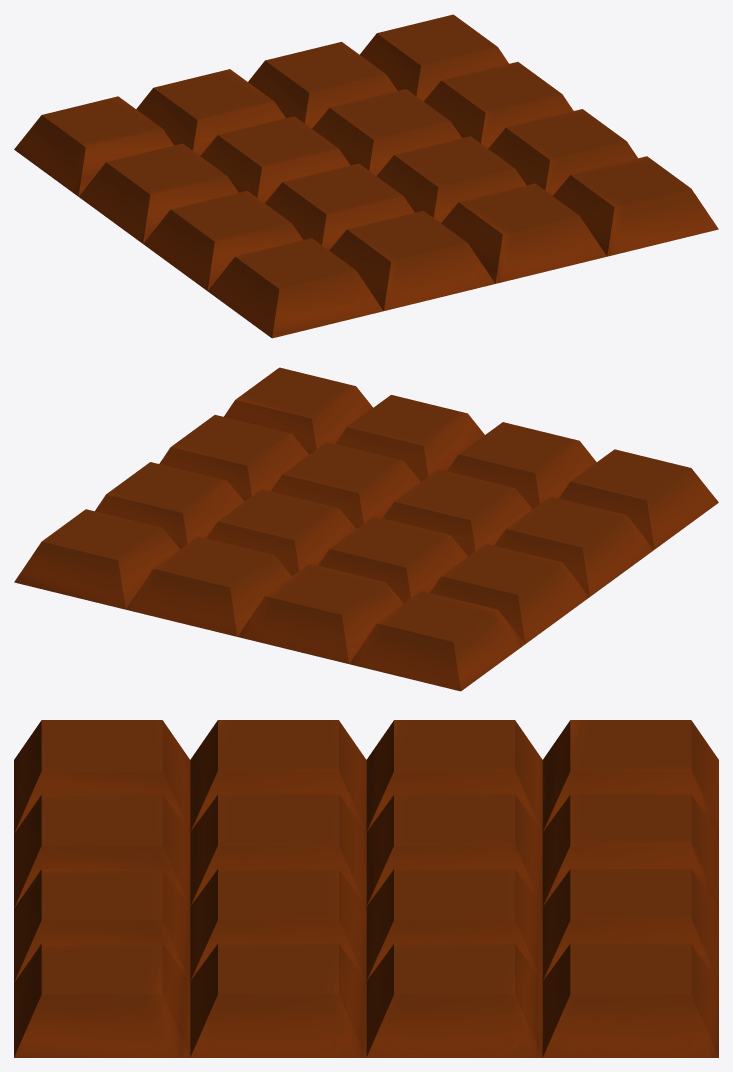
Rendered from SugarWafle.fbx.
The picture shows the model from 3 angles, top to bottom: view 1: azimuth 30°, elevation 25°; view 2: azimuth 150°, elevation 25°; view 3: azimuth 270°, elevation 25°; orthographic projection. The views are drawn at different scales.
Parts seen in each view (by area): view 1: Plane; view 2: Plane; view 3: Plane.
Part boxes in pixels (x1=…): Plane: x1=14, y1=14, x2=718, y2=338; Plane: x1=14, y1=367, x2=718, y2=691; Plane: x1=14, y1=720, x2=718, y2=1057.
Bounding box in the file's own units: 14529 × 1172 × 14529.
